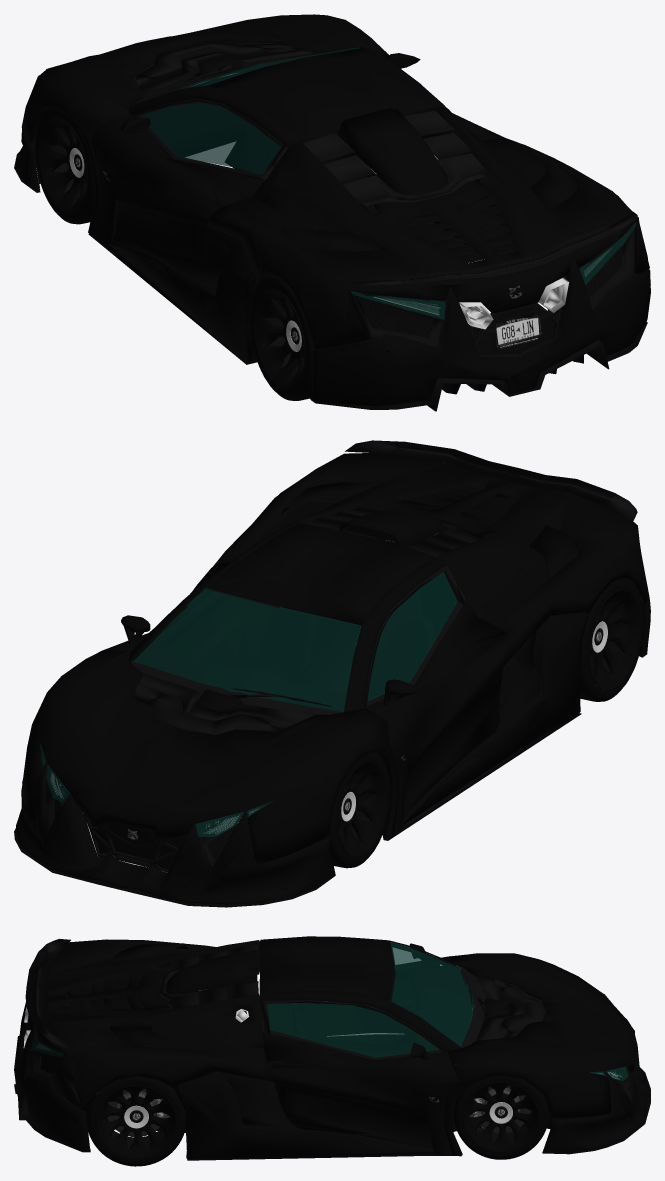
File: goblin.glb
The picture shows the model from 3 angles, top to bottom: view 1: azimuth 30°, elevation 25°; view 2: azimuth 150°, elevation 25°; view 3: azimuth 270°, elevation 25°; orthographic projection. The views are drawn at different scales.
Visible parts, largest first — view 1: clearcoat_clearcoat_0, car_wheel_BL_car_body_0, car_glass_car_glass_0, car_wheel_BL_car_tire_0; view 2: clearcoat_clearcoat_0, car_wheel_BL_car_body_0, car_glass_car_glass_0, car_wheel_BL_car_tire_0; view 3: clearcoat_clearcoat_0, car_wheel_BL_car_body_0, car_glass_car_glass_0, car_wheel_BL_car_tire_0.
Boxes of the visible parts, x1,y1,x2,y2 form: clearcoat_clearcoat_0: [16, 14, 650, 405]; car_wheel_BL_car_body_0: [14, 19, 650, 411]; car_glass_car_glass_0: [139, 47, 636, 319]; car_wheel_BL_car_tire_0: [35, 108, 548, 400]; clearcoat_clearcoat_0: [16, 453, 650, 904]; car_wheel_BL_car_body_0: [14, 440, 650, 907]; car_glass_car_glass_0: [40, 572, 457, 837]; car_wheel_BL_car_tire_0: [55, 578, 643, 868]; clearcoat_clearcoat_0: [16, 936, 649, 1159]; car_wheel_BL_car_body_0: [14, 937, 650, 1160]; car_glass_car_glass_0: [31, 942, 628, 1081]; car_wheel_BL_car_tire_0: [86, 1075, 548, 1166].
Size of what is drawn, in the model's own units: 0.0565 by 0.0301 by 0.118.
Materials: 4 (1 with a texture image).
